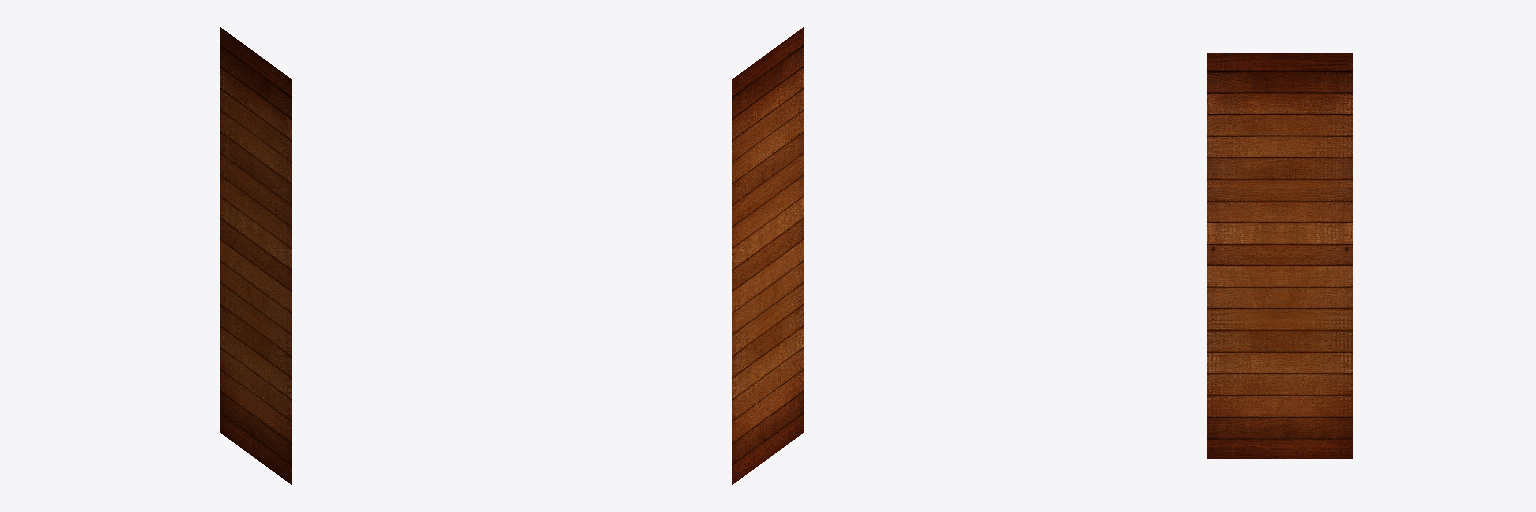
3 renders of one model, left to right at view 1: azimuth 30°, elevation 25°; view 2: azimuth 150°, elevation 25°; view 3: azimuth 270°, elevation 25°, orthographic.
Parts seen in each view (by area): view 1: Cube; view 2: Cube; view 3: Cube.
Boxes of the visible parts, box(x1,y1,x2,y2) form: Cube: box(220, 27, 291, 484); Cube: box(732, 27, 803, 484); Cube: box(1207, 53, 1352, 458).
Bounding box in the file's own units: 0 × 6.14 × 2.
Materials: 1 (1 with a texture image).